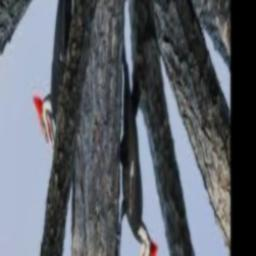Woodpecker: (116, 44, 157, 256), (33, 0, 74, 168)
